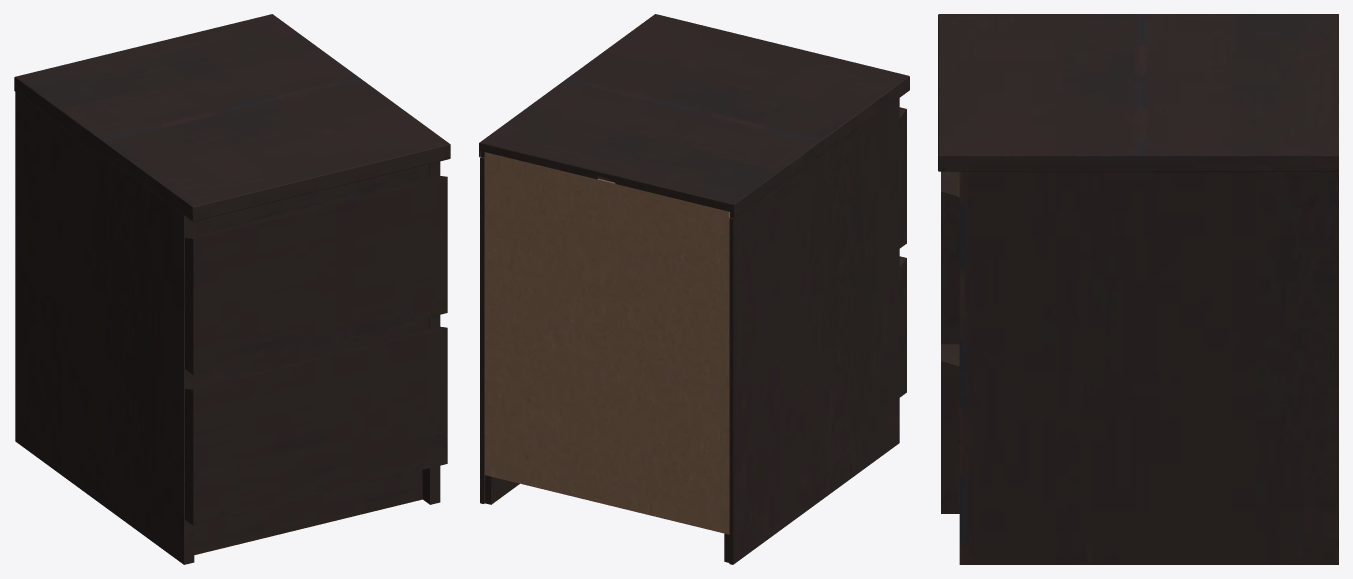
3 renders of one model, left to right at view 1: azimuth 30°, elevation 25°; view 2: azimuth 150°, elevation 25°; view 3: azimuth 270°, elevation 25°, orthographic. The views are drawn at different scales.
Visible parts, largest first — view 1: Mesh_0; view 2: Mesh_0; view 3: Mesh_0.
Part boxes in pixels (left/top/right/bottom): Mesh_0: left=14, top=14, right=450, bottom=564; Mesh_0: left=479, top=14, right=909, bottom=564; Mesh_0: left=938, top=14, right=1338, bottom=564.
Bounding box in the file's own units: 0.403 × 0.5445 × 0.482.
1 material, 1 textured.
